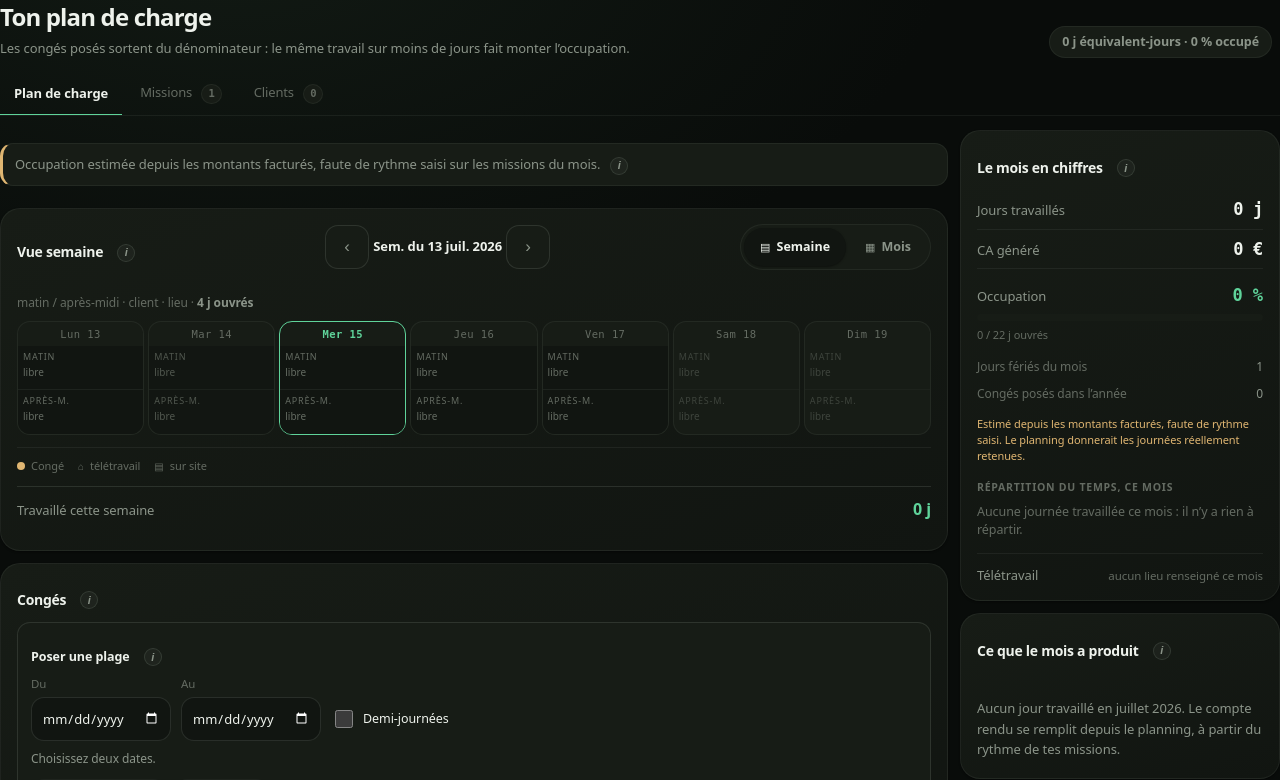
it: missions › signale un TJM absent au lieu d’en supposer un
This screenshot has width=1280, height=780.
Click the tab "Missions 1" at point(181, 94), box x1=126 y1=72 x2=236 y2=116
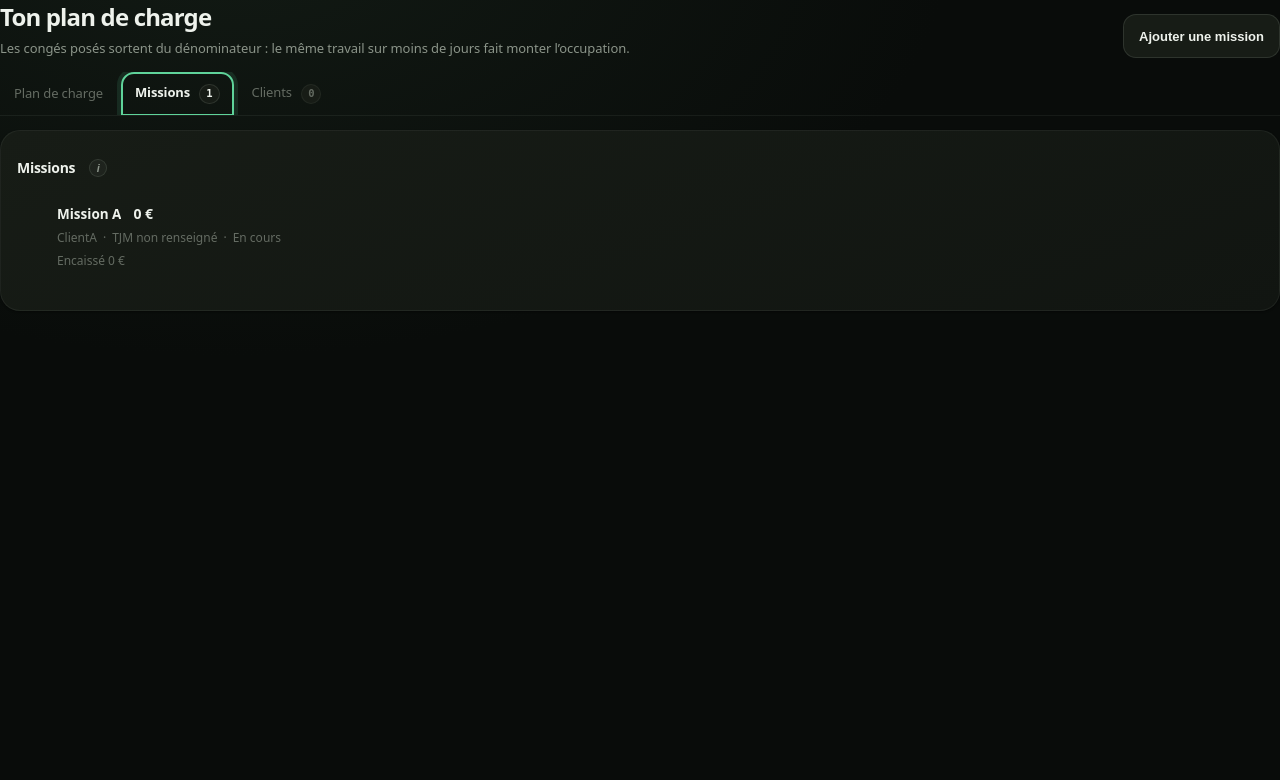
Expected: the text "TJM non renseigné" is shown, x1=112 y1=229 x2=218 y2=247
